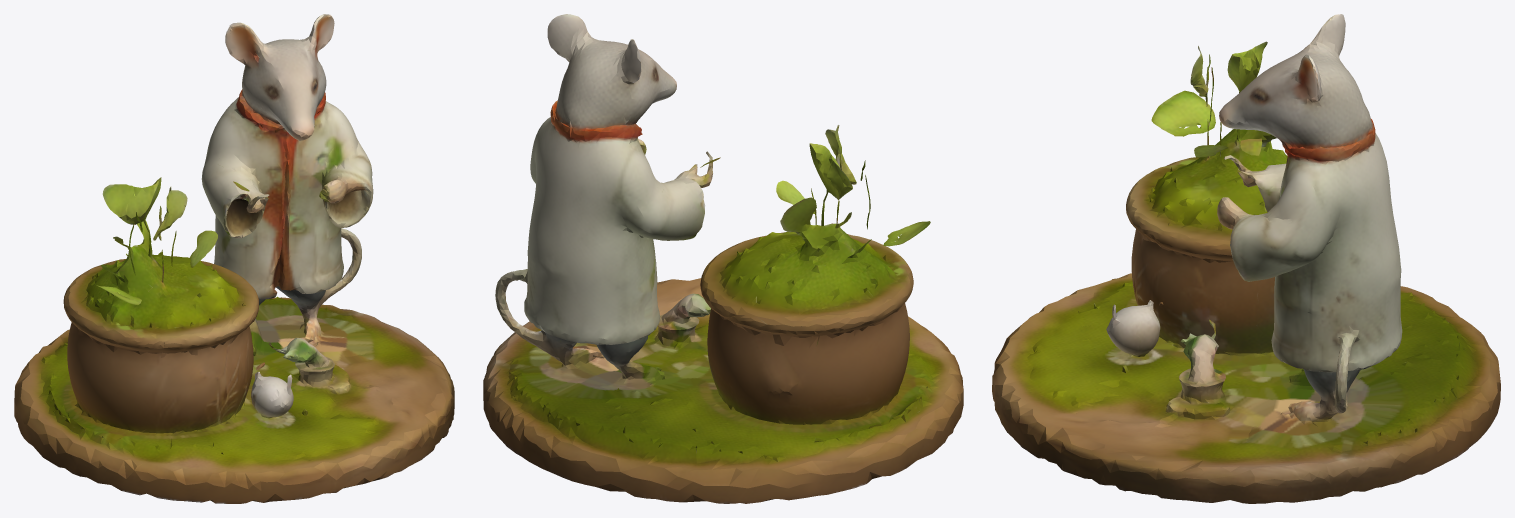
3 views of the same model, side by side, from view 1: azimuth 30°, elevation 25°; view 2: azimuth 150°, elevation 25°; view 3: azimuth 270°, elevation 25° (orthographic). The views are drawn at different scales.
Parts seen in each view (by area): view 1: HerbalRemedy; view 2: HerbalRemedy; view 3: HerbalRemedy.
Part boxes in pixels (x1,y1,x2,y2): HerbalRemedy: [14, 14, 454, 503]; HerbalRemedy: [483, 14, 963, 503]; HerbalRemedy: [992, 14, 1500, 503].
Size of the model in its own units: 1.9 by 1.67 by 1.89.
Materials: 1 (1 with a texture image).
